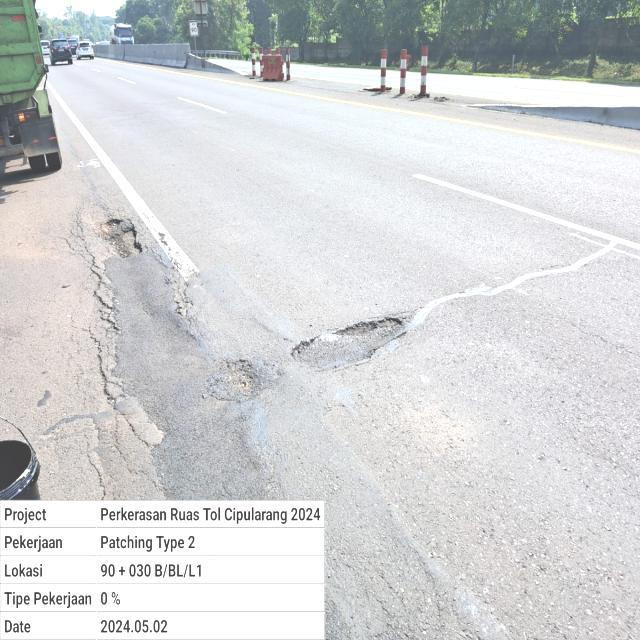Buraco: (288, 315, 414, 373), (91, 217, 146, 264)
